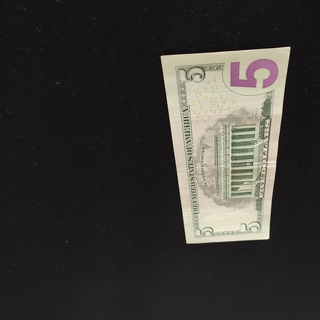5USDBack: (160, 46, 291, 244)
